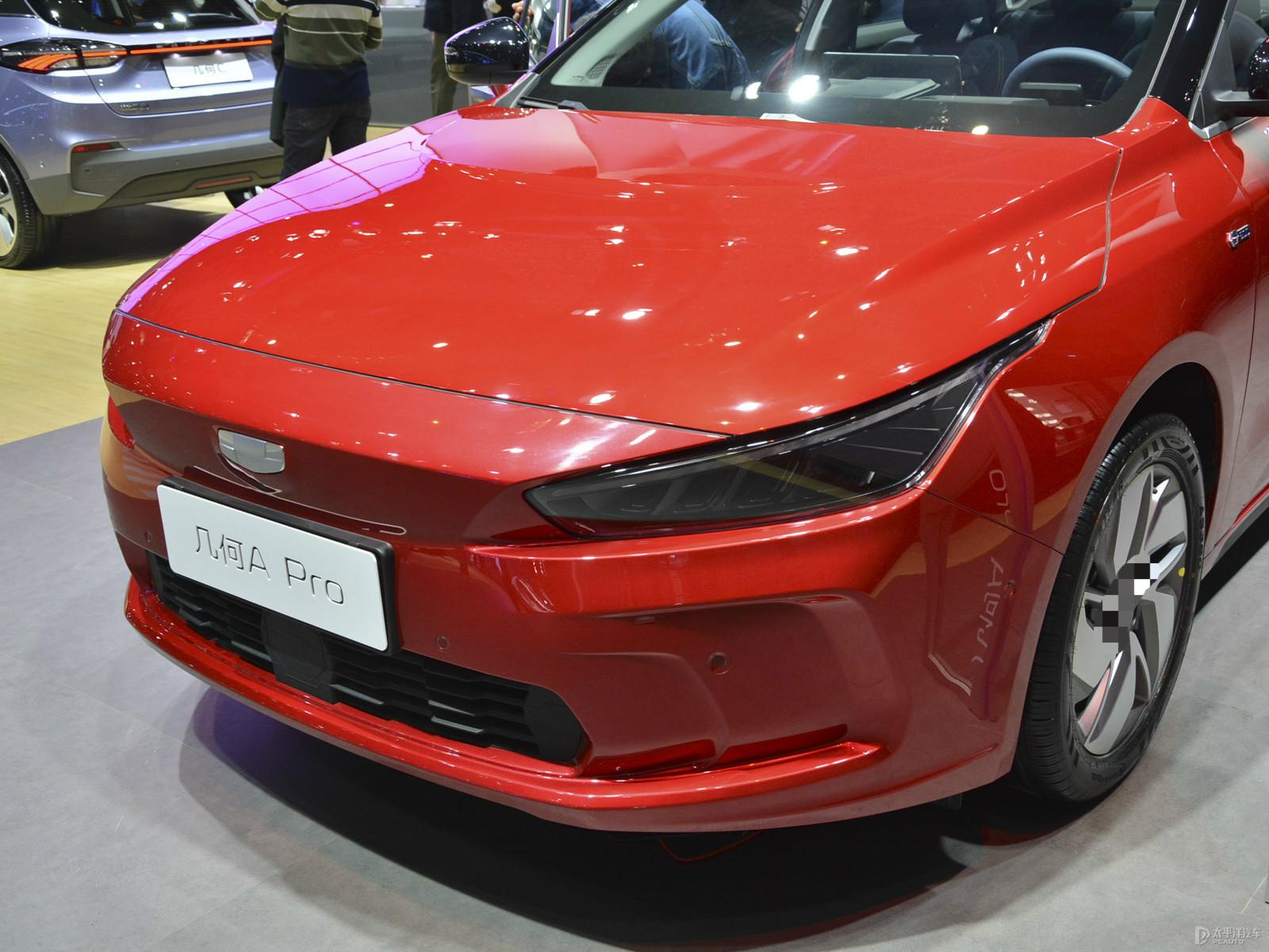GEOMETRY: (219, 430, 284, 473)
